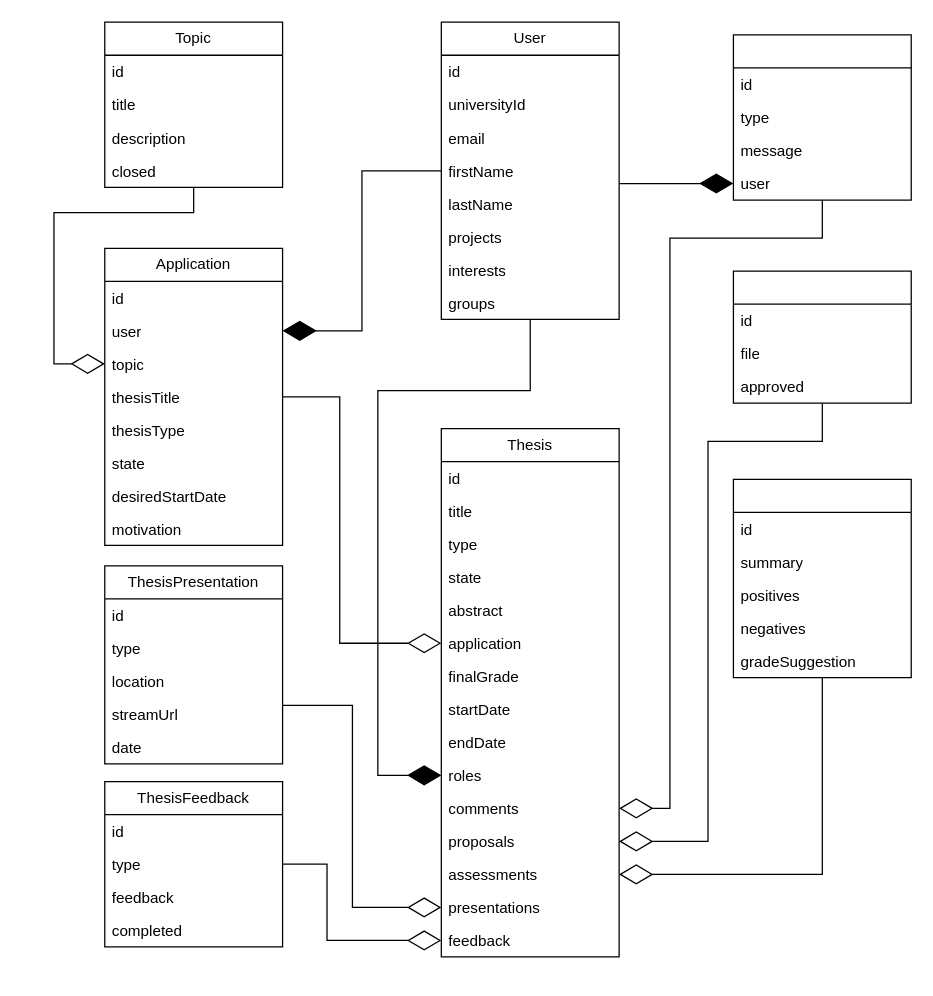
This 933x996 diagram has some shape labels left out. The shapes that lost their labels are listed below. From the top down, each one's box as (x1, y1, x2, y2) in pixels, then its label:
(732, 34, 911, 200): ThesisComment
(732, 270, 911, 403): ThesisProposal
(732, 478, 911, 678): ThesisAssessment
